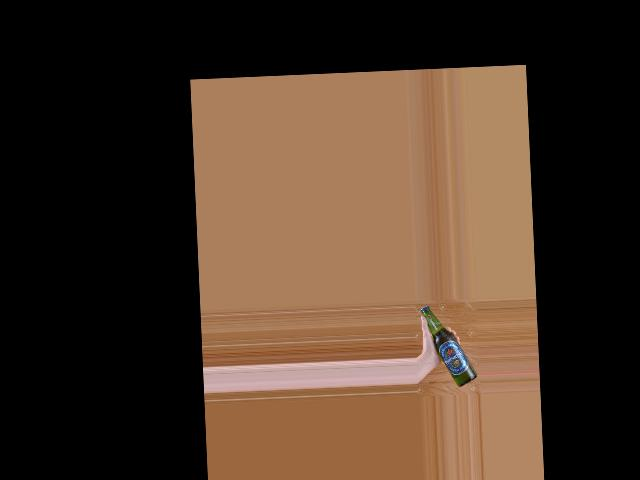beer: (420, 303, 477, 388)
